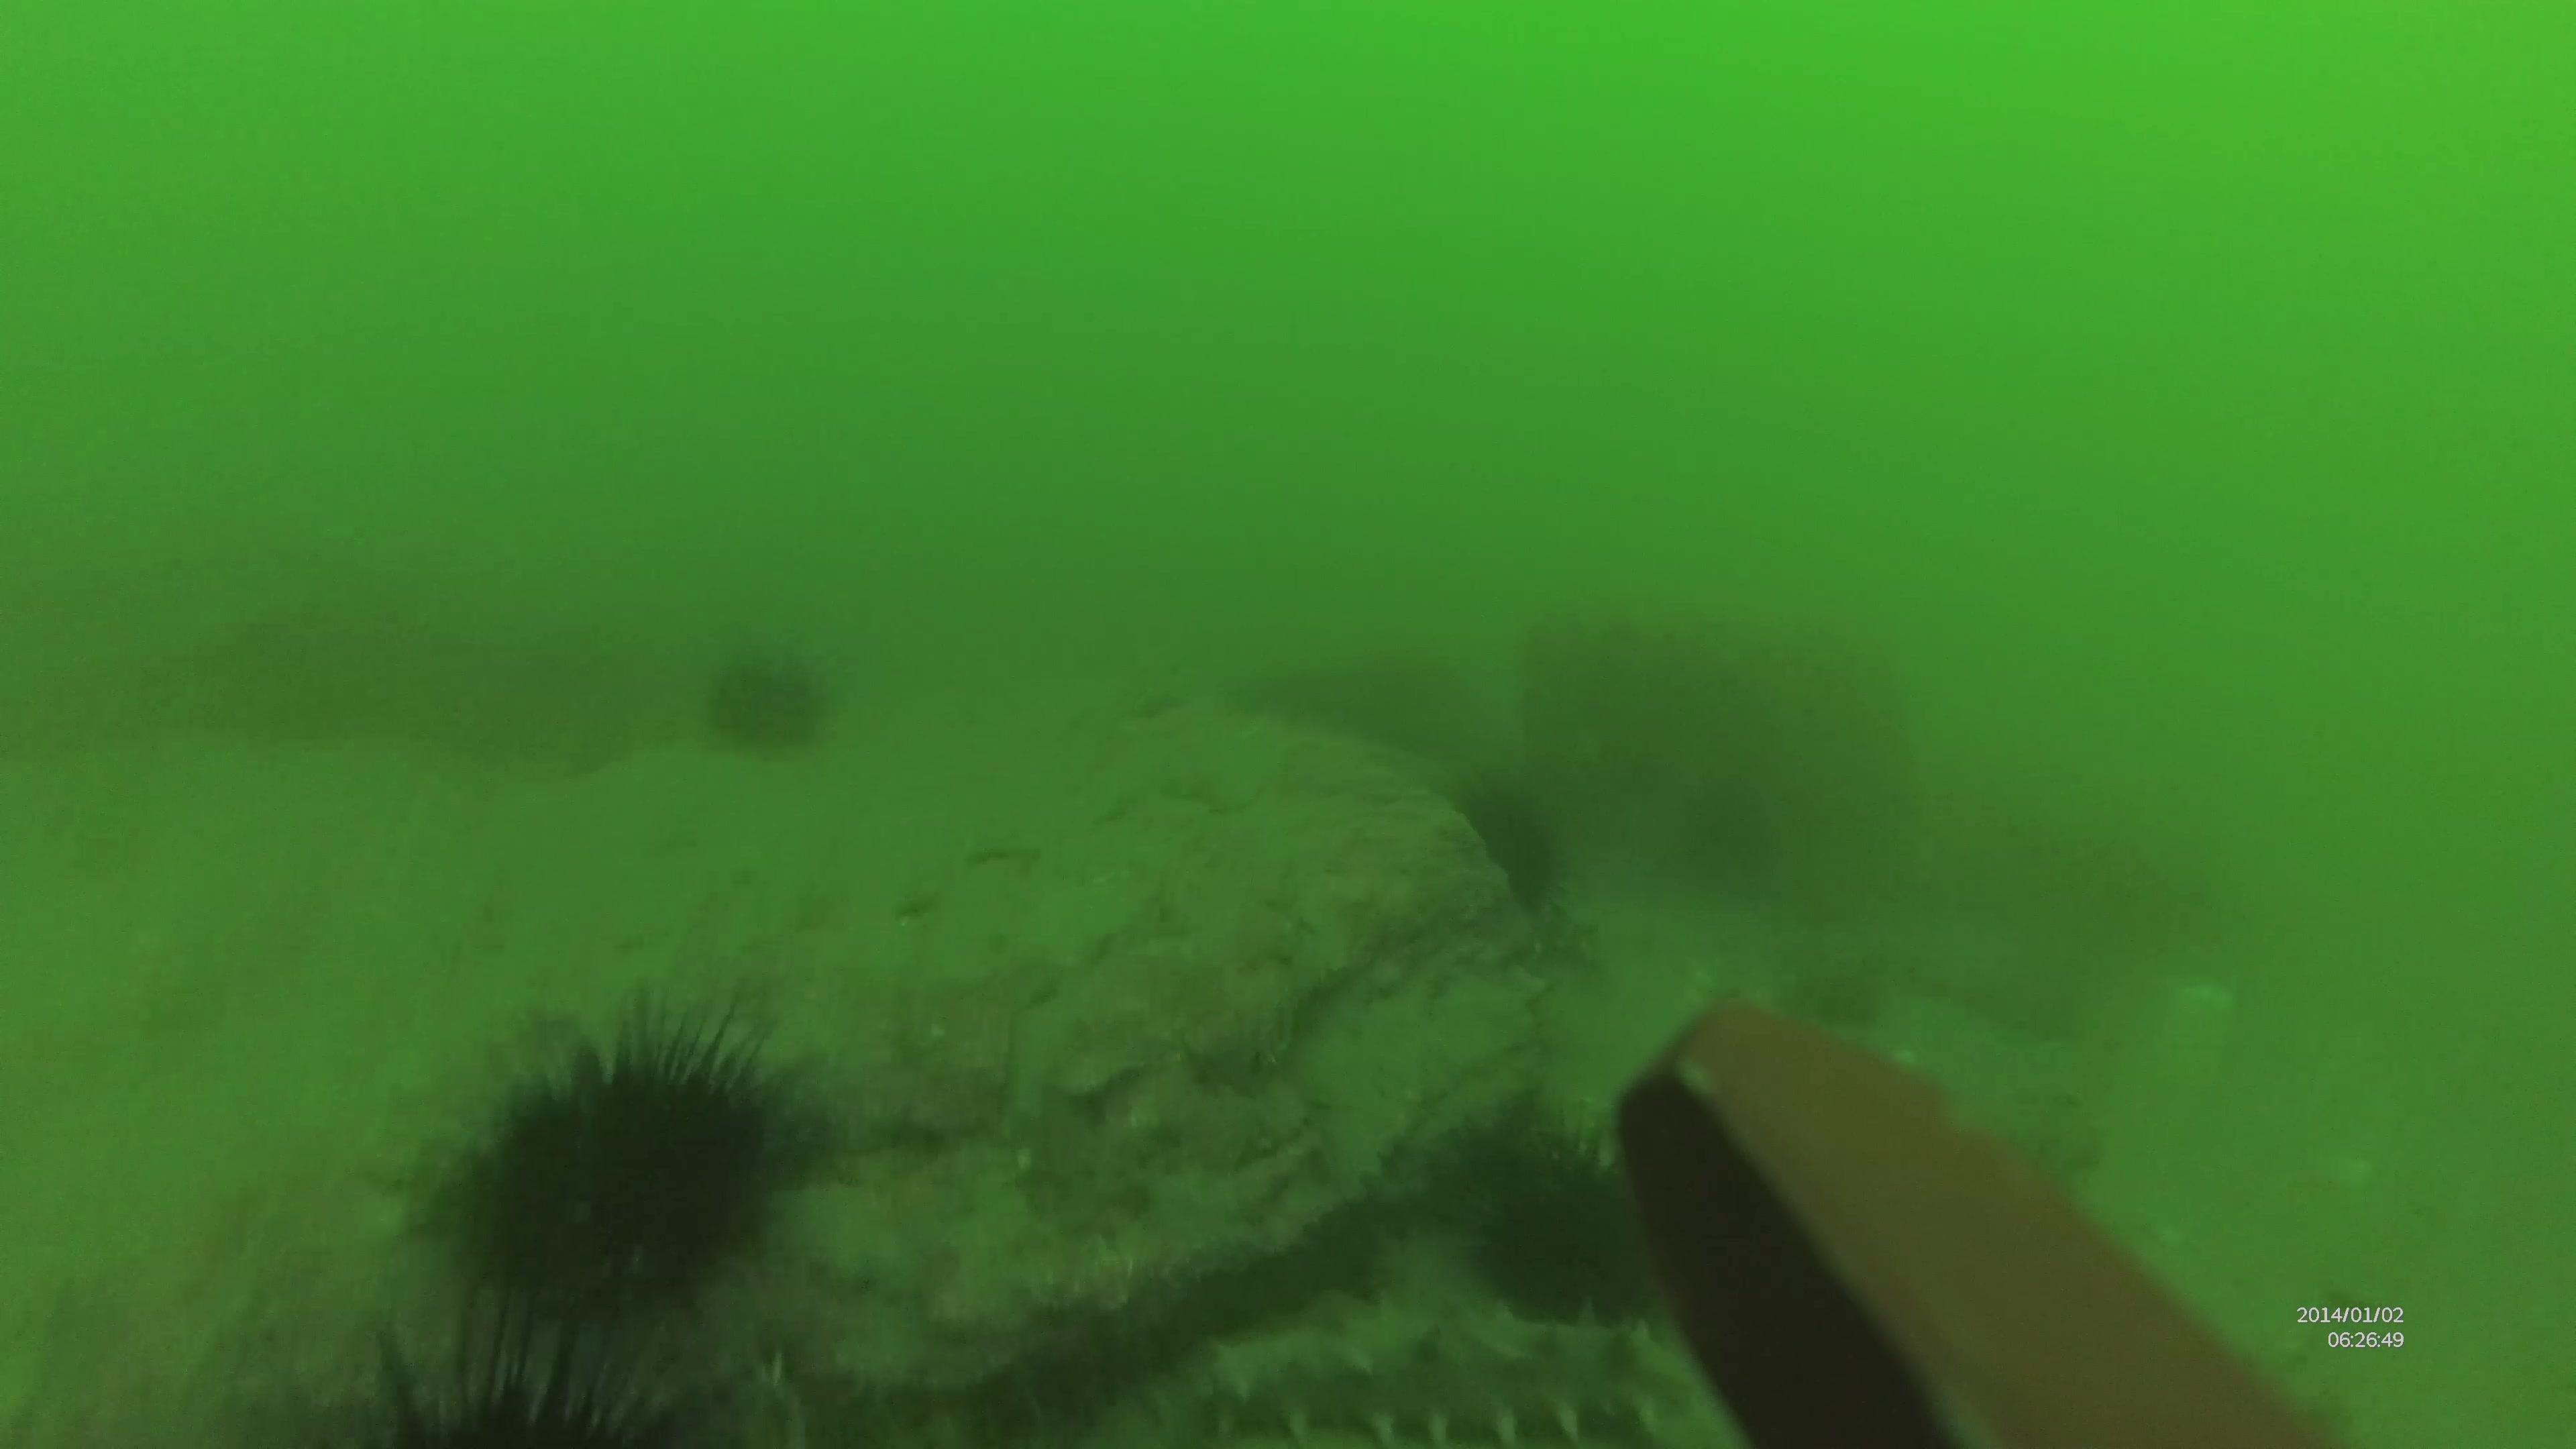echinus: (421, 985, 832, 1311), (248, 1329, 729, 1449), (1463, 1111, 1674, 1352), (1414, 773, 1571, 925), (713, 653, 830, 773)
holothurian: (1184, 1300, 1714, 1449)
